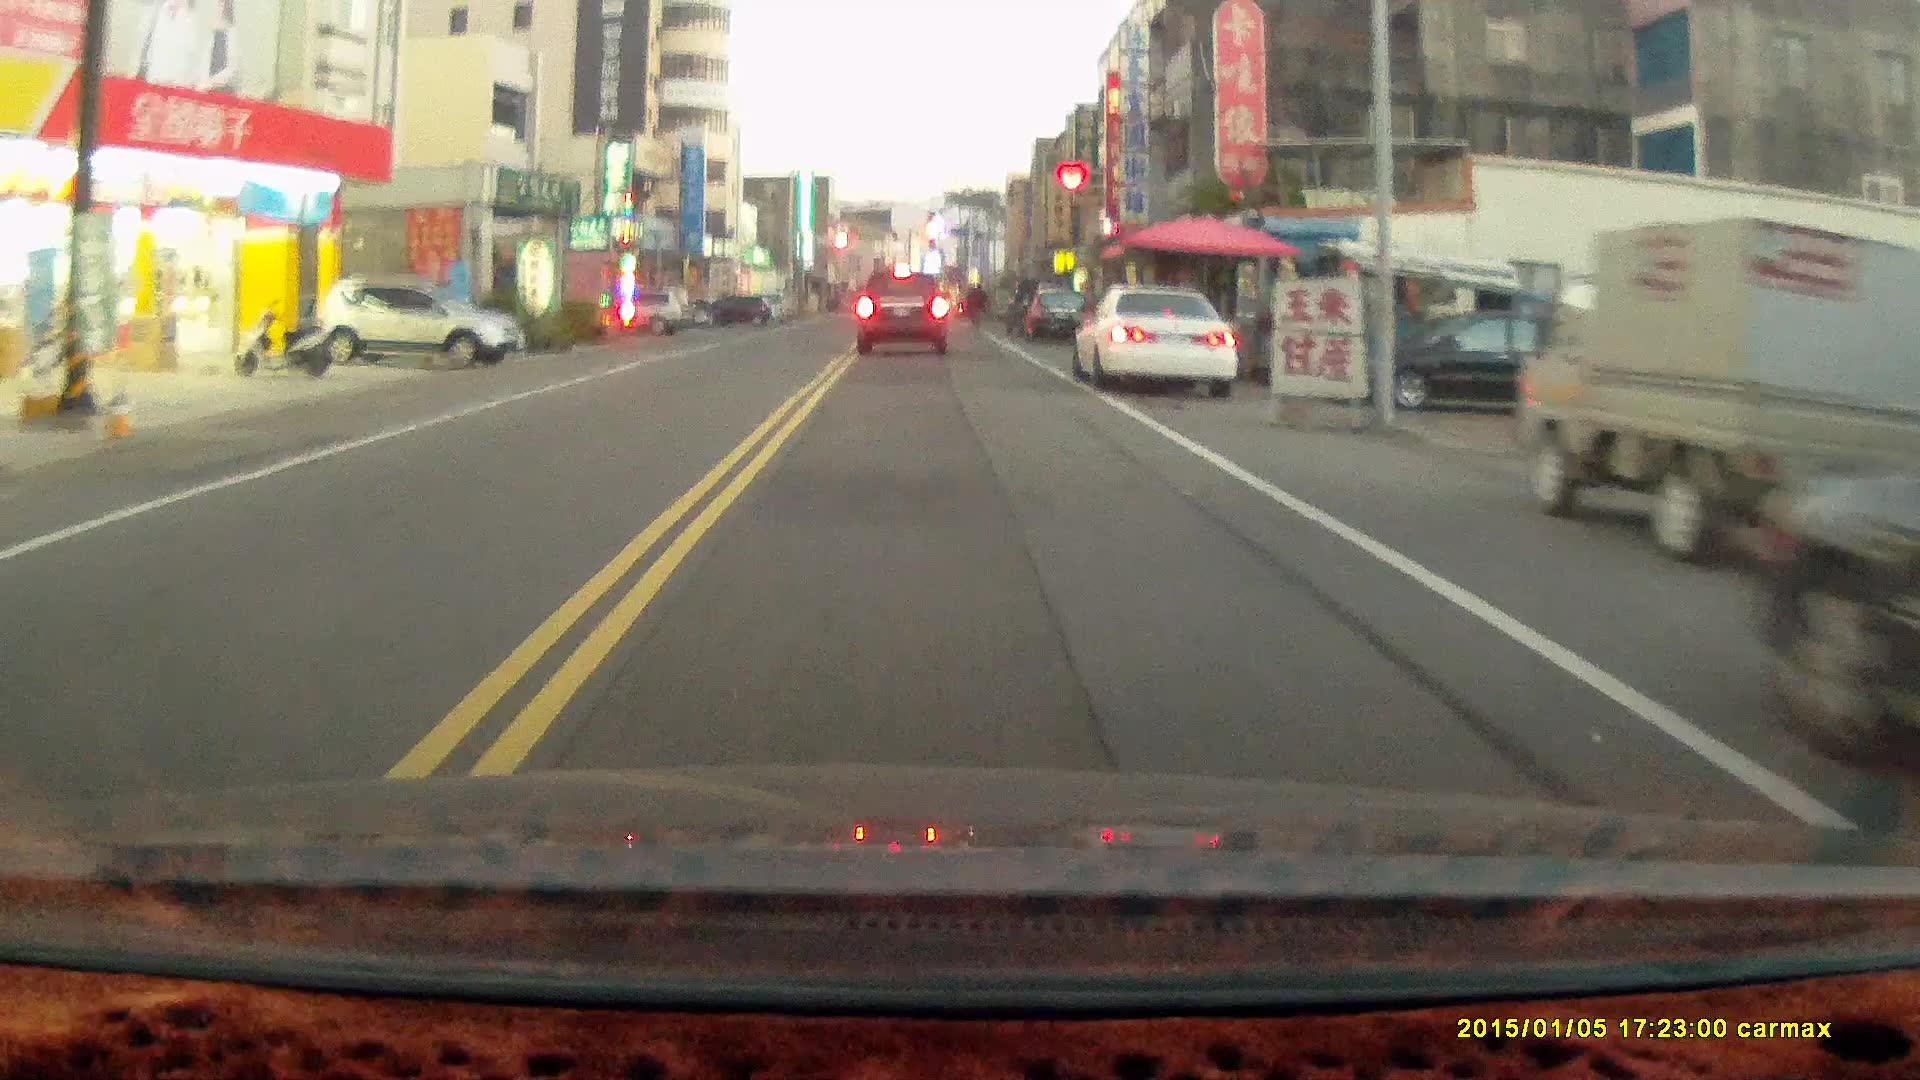rider: (966, 284, 987, 332)
vehicle: (1520, 214, 1920, 563), (1753, 355, 1920, 795), (1338, 300, 1642, 419), (307, 276, 521, 363), (1077, 286, 1242, 395), (853, 270, 953, 357), (1017, 286, 1090, 343)
